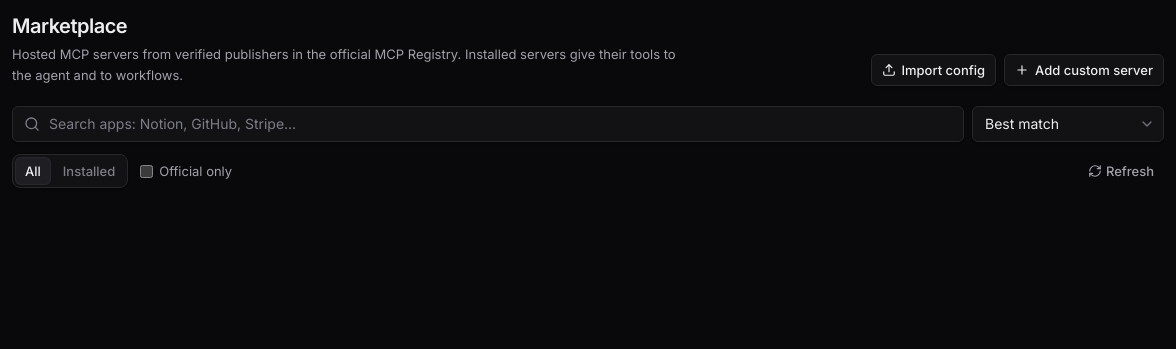
Test: M-7: a slow older search result never replaces a newer one
Step 1. Type "new" into the field named "Search servers" → (488, 124), box top-left (12, 106), bottom-right (964, 142)
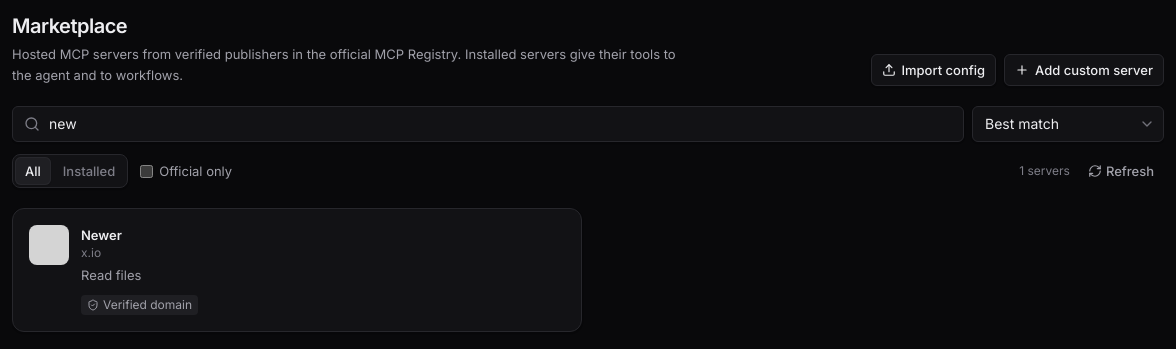
Check: the button "Older" is not shown
Check: the button "Newer x.io Read files Verified domain" is shown, box top-left (12, 208), bottom-right (582, 332)
